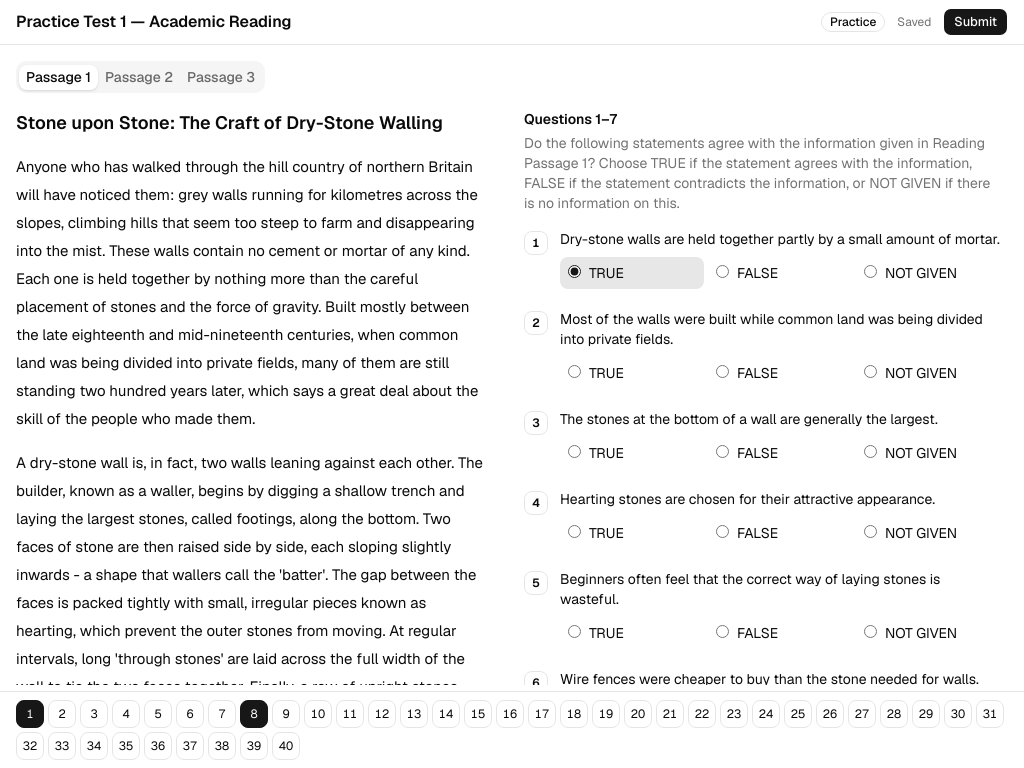
it: unanswered count in submit dialog
Click the button "Submit" at (976, 22), box [943,8,1008,36]
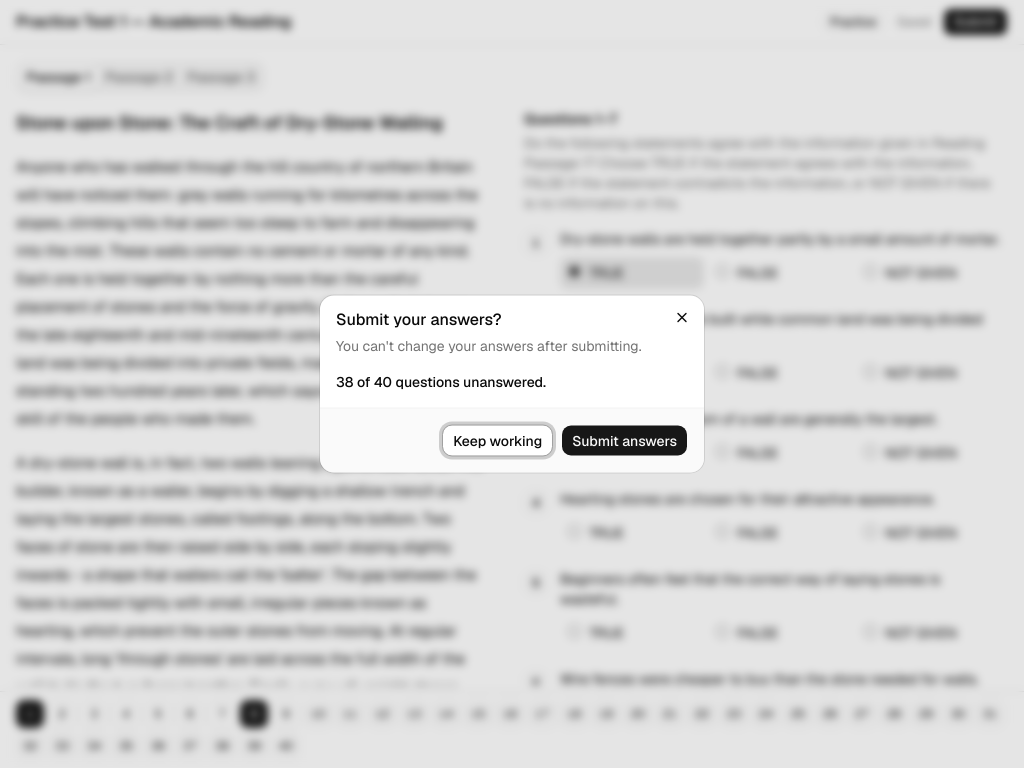
Check: the text "38 of 40 questions unanswered." is shown, box [336,372,546,390]
